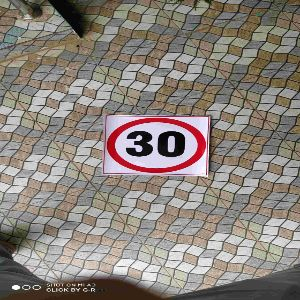speedlimit30: (103, 115, 209, 179)
